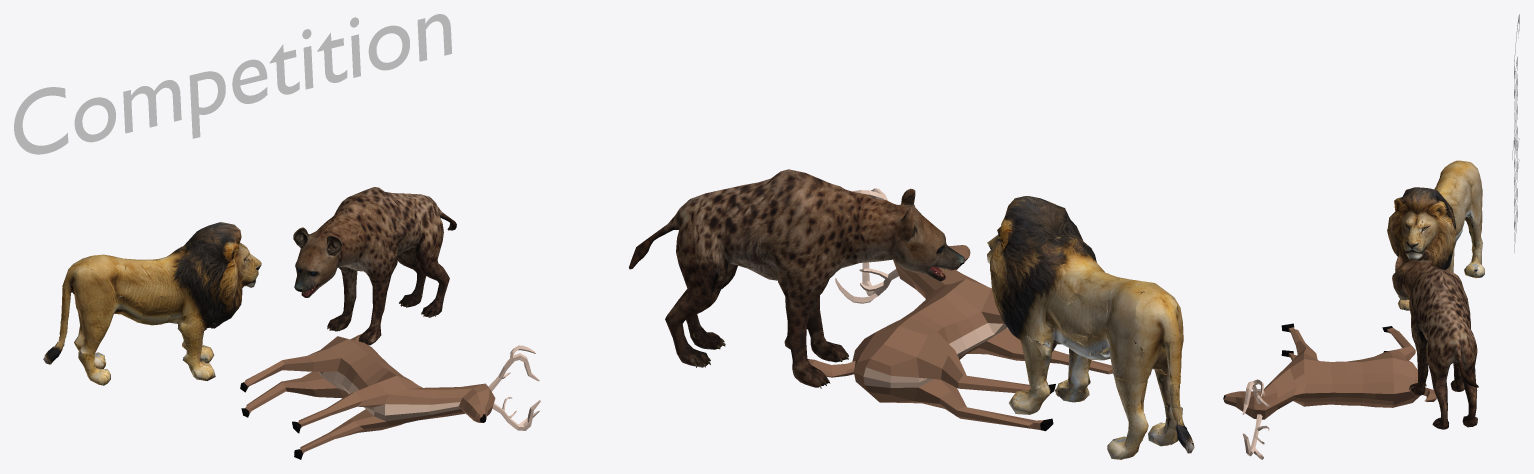
File: competition.gltf
The picture shows the model from 3 angles, left to right: view 1: azimuth 30°, elevation 25°; view 2: azimuth 150°, elevation 25°; view 3: azimuth 270°, elevation 25°; orthographic projection. The views are drawn at different scales.
Visible parts, largest first — view 1: Mesh_0_Material_0_0.001, Hiena_HP_0, 05deerFinal.001, Text.002; view 2: Hiena_HP_0, Mesh_0_Material_0_0.001, 05deerFinal.001; view 3: 05deerFinal.001, Hiena_HP_0, Mesh_0_Material_0_0.001, Text.002.
Boxes of the visible parts, x1,y1,x2,y2 form: Mesh_0_Material_0_0.001: [43, 222, 261, 385]; Hiena_HP_0: [293, 187, 456, 345]; 05deerFinal.001: [240, 334, 540, 459]; Text.002: [14, 14, 452, 154]; Hiena_HP_0: [629, 169, 964, 388]; Mesh_0_Material_0_0.001: [987, 196, 1194, 459]; 05deerFinal.001: [808, 188, 1113, 431]; 05deerFinal.001: [1223, 323, 1436, 459]; Hiena_HP_0: [1392, 249, 1478, 429]; Mesh_0_Material_0_0.001: [1387, 160, 1484, 310]; Text.002: [1512, 14, 1519, 252].
Size of the model in its own units: 2.73 by 1.9 by 1.75.
3 materials, 3 textured.
